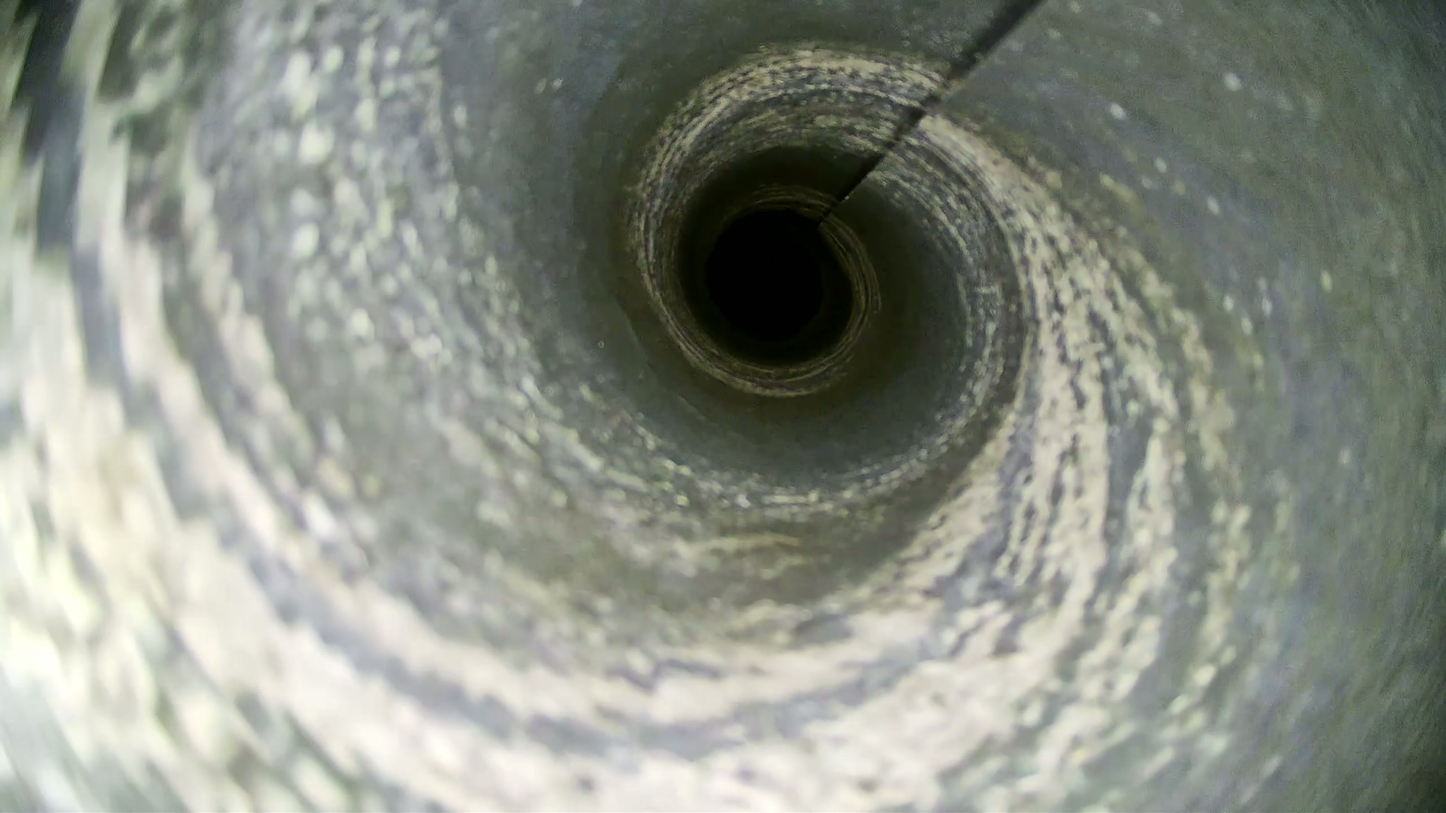hole: (711, 226, 823, 341)
